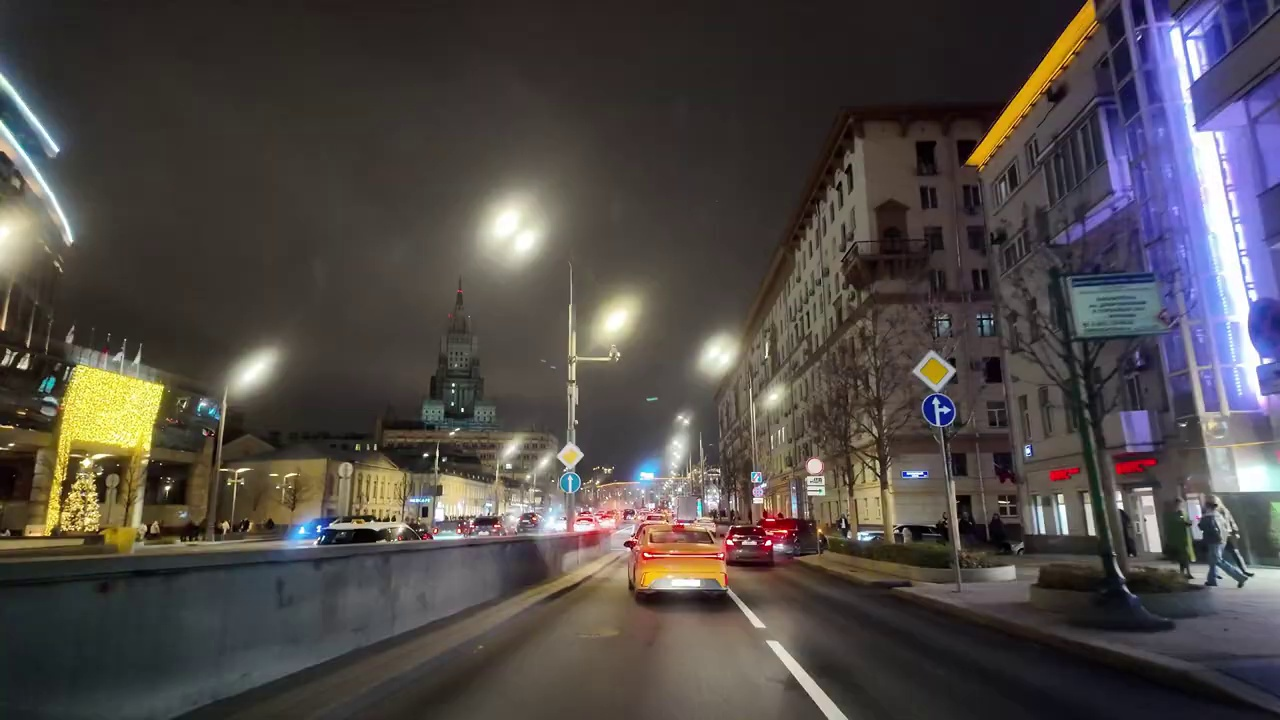acesa: (483, 198, 545, 265), (225, 346, 279, 401), (591, 296, 640, 352), (695, 333, 742, 381), (0, 214, 23, 269), (757, 383, 788, 415)
